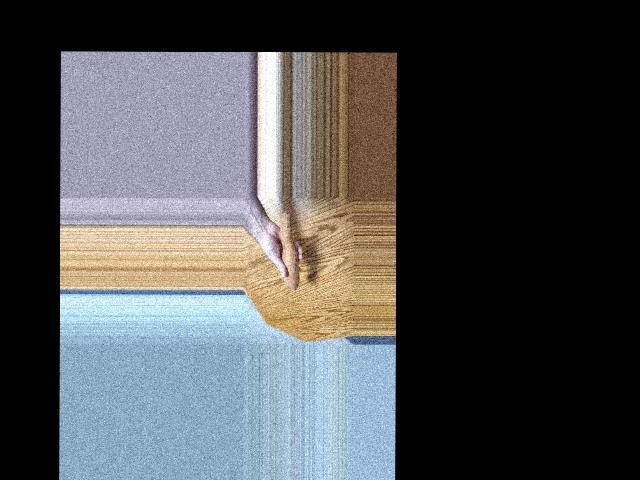sweet_potato: (277, 210, 302, 291)
